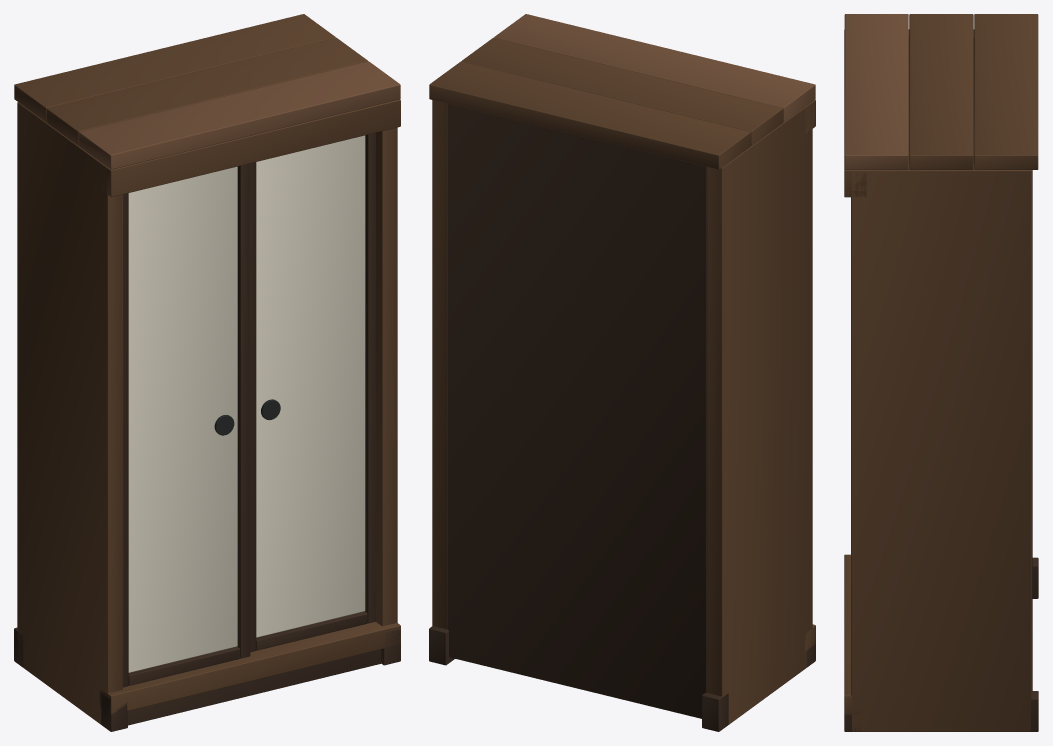
The model's file is kominka-oshiire-01.glb.
3 views of the same model, side by side, from view 1: azimuth 30°, elevation 25°; view 2: azimuth 150°, elevation 25°; view 3: azimuth 270°, elevation 25° (orthographic).
Visible parts, largest first — view 1: kominka-oshiire-01; view 2: kominka-oshiire-01; view 3: kominka-oshiire-01.
Boxes of the visible parts, x1=… form: kominka-oshiire-01: x1=14, y1=14, x2=400, y2=731; kominka-oshiire-01: x1=429, y1=14, x2=815, y2=731; kominka-oshiire-01: x1=844, y1=14, x2=1038, y2=731.
Bounding box in the file's own units: 1 × 1.9 × 0.58.
